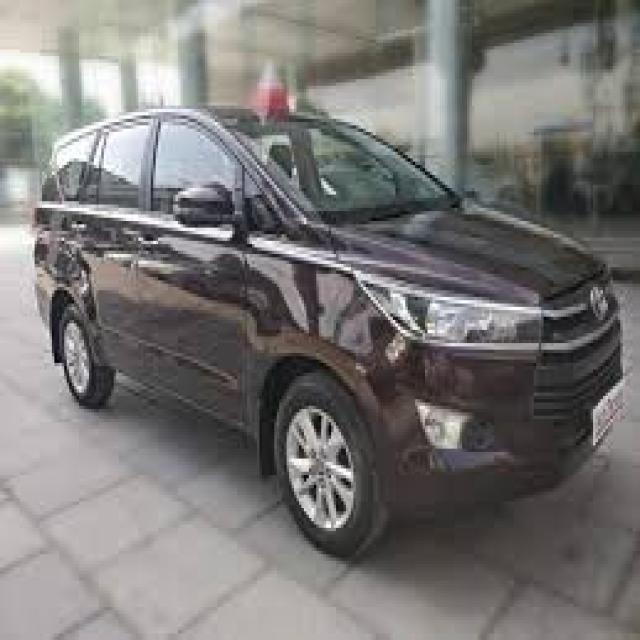light_vehicle: (32, 105, 624, 561)
